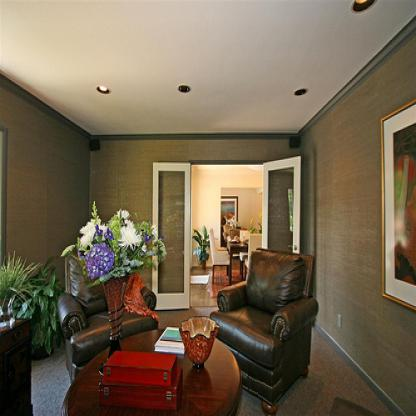chair: (210, 250, 317, 415), (53, 249, 160, 378), (206, 227, 232, 285), (243, 230, 263, 281)
diningtable: (226, 240, 250, 282)
pottedplant: (14, 258, 63, 354)
